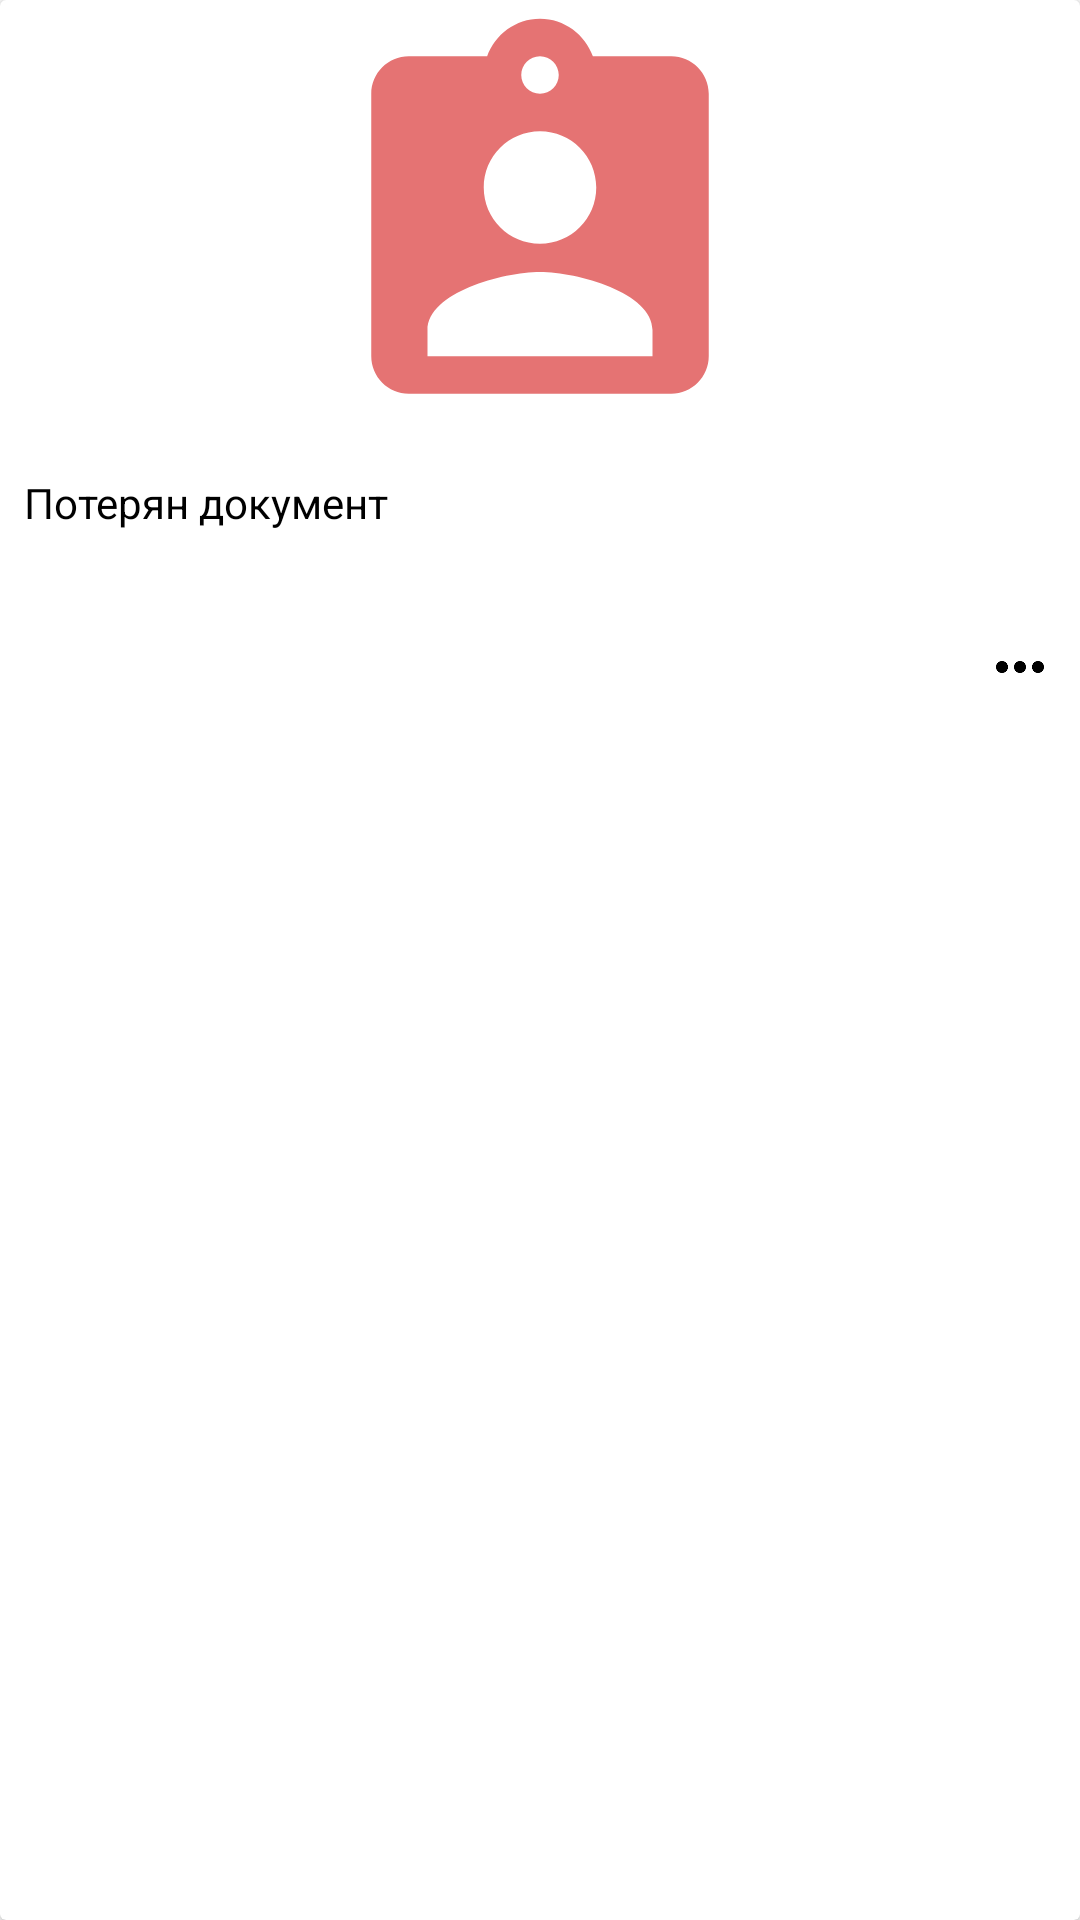

Where to tap for icons on this 1080px x 1920px app screen, as [x,y]:
Grid layout item options button menu: [1020,667]
